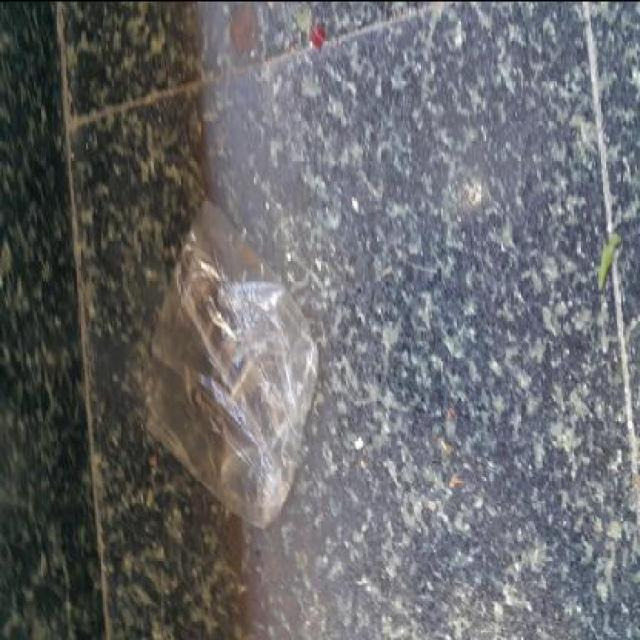plastic: (194, 319, 529, 499)
